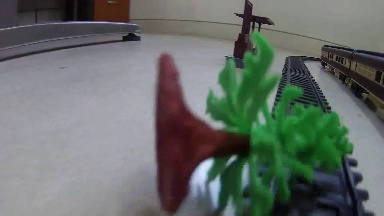tree: (154, 30, 353, 216)
